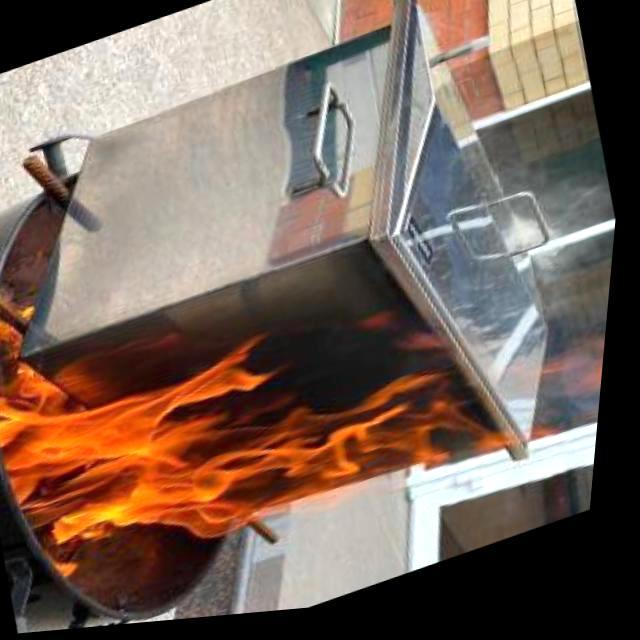fire: (0, 278, 476, 624), (463, 109, 629, 324)
